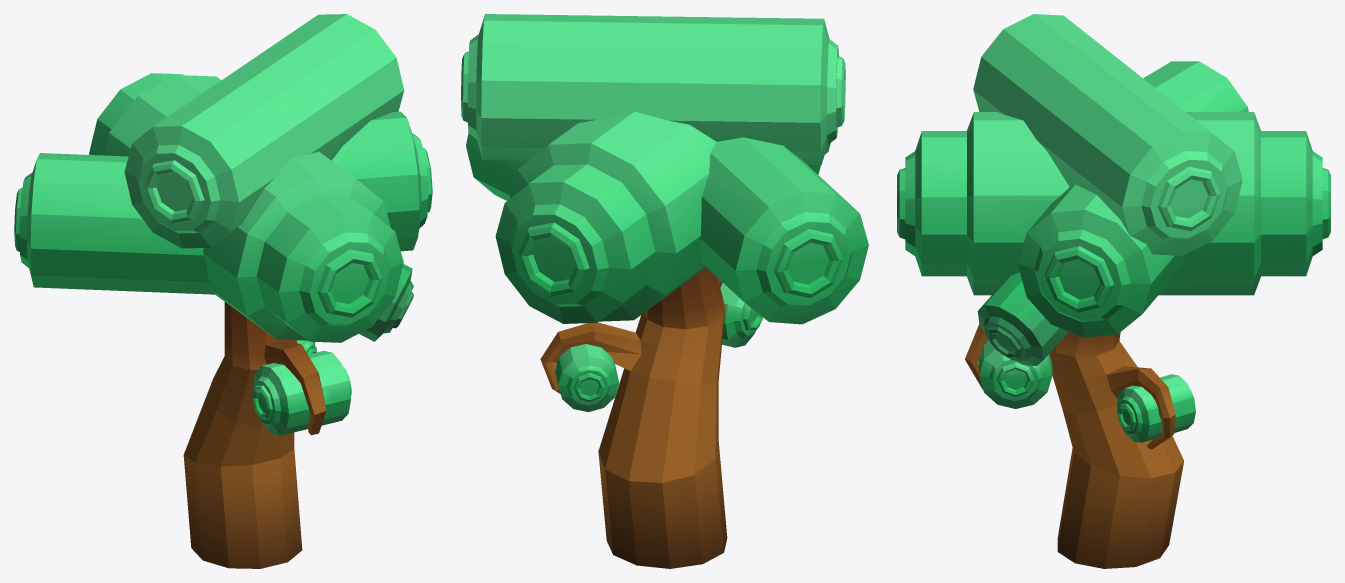
File: quaternius-textured-fantasy-nature-bigtree-2.glb
The picture shows the model from 3 angles, left to right: view 1: azimuth 30°, elevation 25°; view 2: azimuth 150°, elevation 25°; view 3: azimuth 270°, elevation 25°; orthographic projection. The views are drawn at different scales.
Visible parts, largest first — view 1: Tree; view 2: Tree; view 3: Tree.
Part boxes in pixels (box(x1,y1,x2,y2)): Tree: box(14, 14, 432, 568); Tree: box(461, 14, 868, 568); Tree: box(897, 14, 1330, 568).
Bounding box in the file's own units: 4.01 × 4.88 × 4.
Materials: 1 (1 with a texture image).
